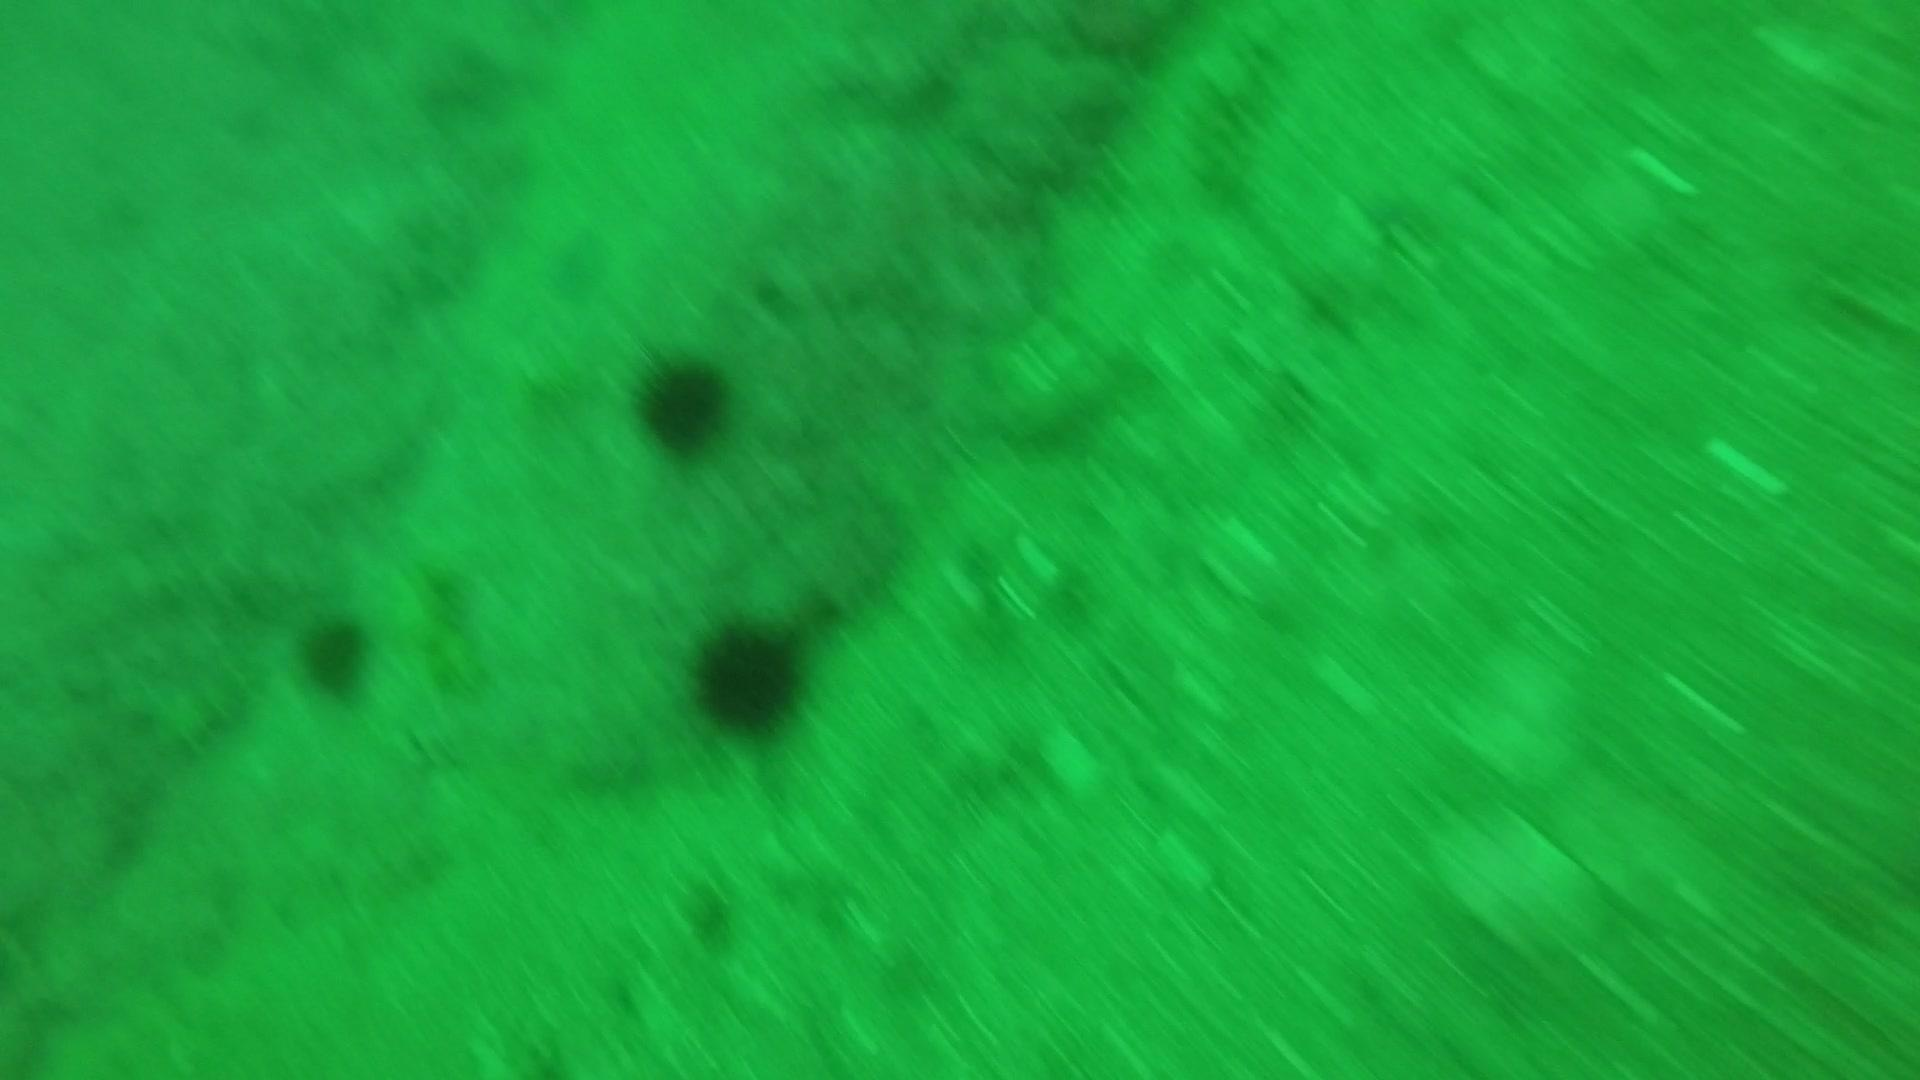echinus: (680, 611, 818, 741), (626, 347, 738, 462), (291, 607, 378, 703)
